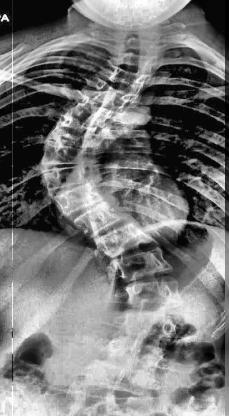Vertebrae: (124, 280, 182, 318), (98, 219, 156, 256), (114, 249, 174, 280), (77, 204, 131, 238), (56, 184, 110, 214), (40, 166, 96, 192), (38, 140, 90, 166), (69, 103, 117, 131), (50, 119, 98, 145), (90, 86, 132, 114), (106, 64, 148, 92), (110, 52, 154, 70)
